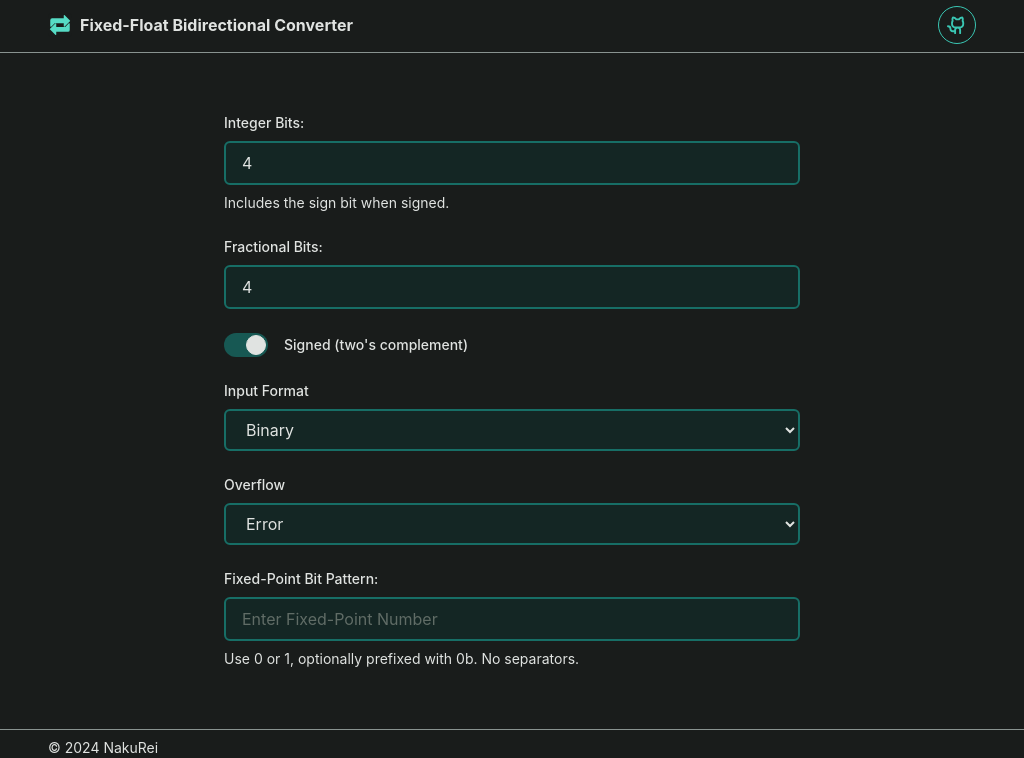
Test: Decimal input in the converter › revalidates a negative decimal when the sign mode changes
This screenshot has width=1024, height=758.
Select "Decimal" in the dropdown labelled "Input Format" at (512,430), box [224,409,800,451]
(page scrolled)
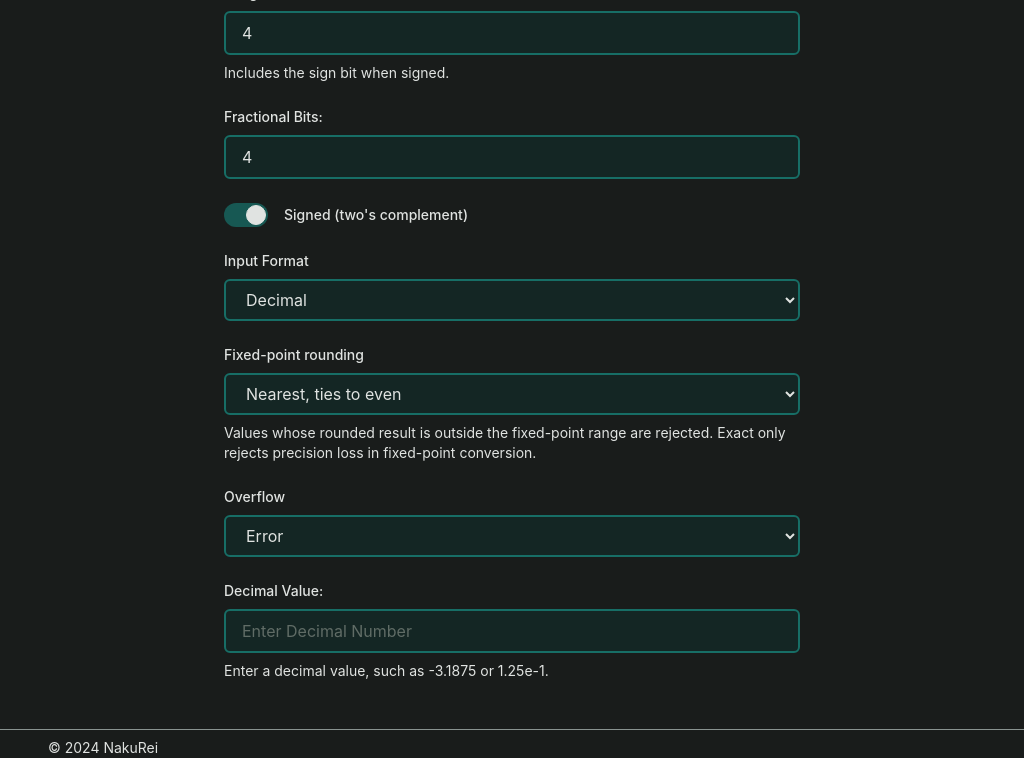
Type "-3.1875" into the field labelled "Decimal Value:" at (512,631), box [224,609,800,653]
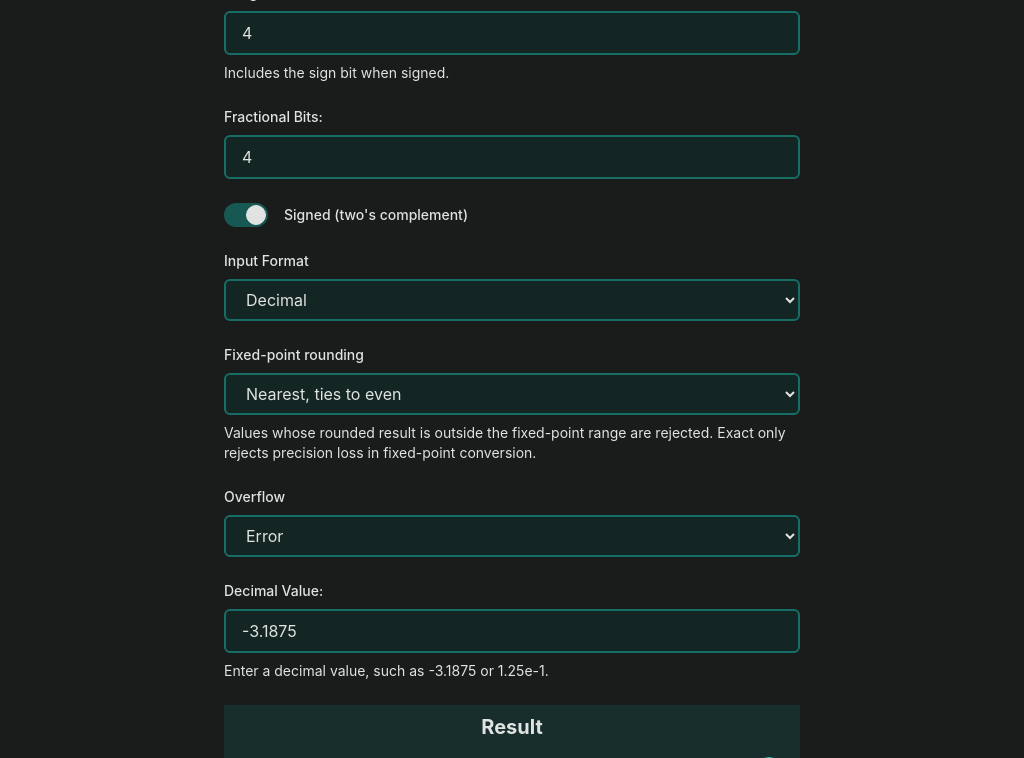
Click the checkbox at (346,215), box [224,203,468,227]
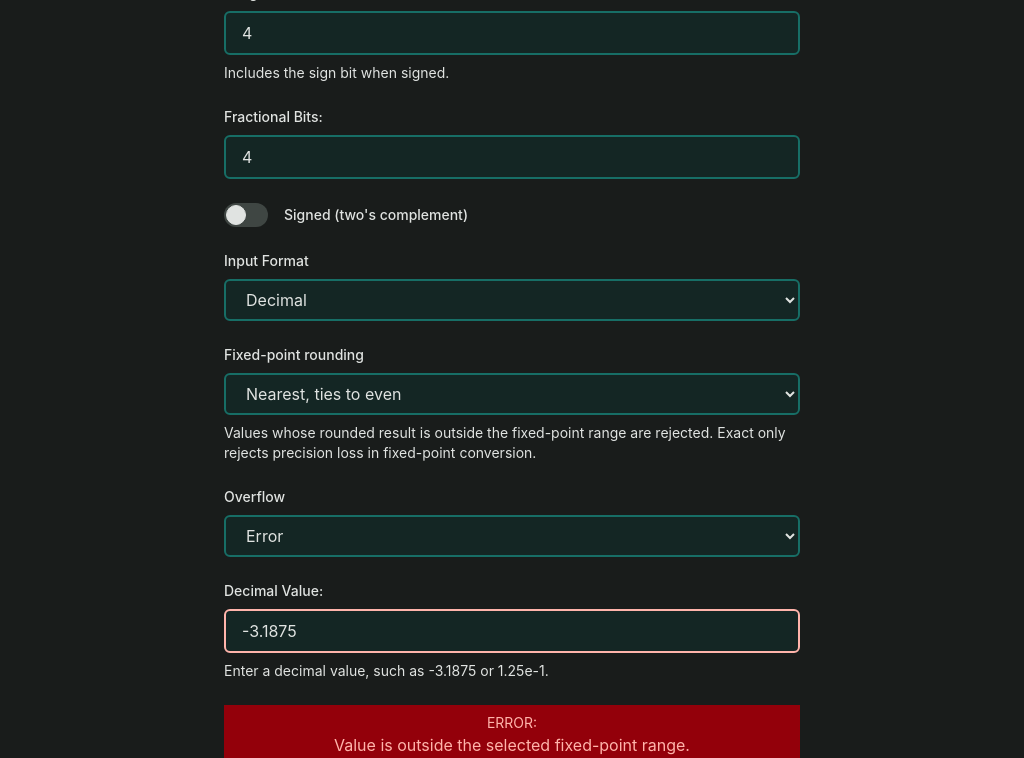
Click the checkbox at (346,215), box [224,203,468,227]
(page scrolled)
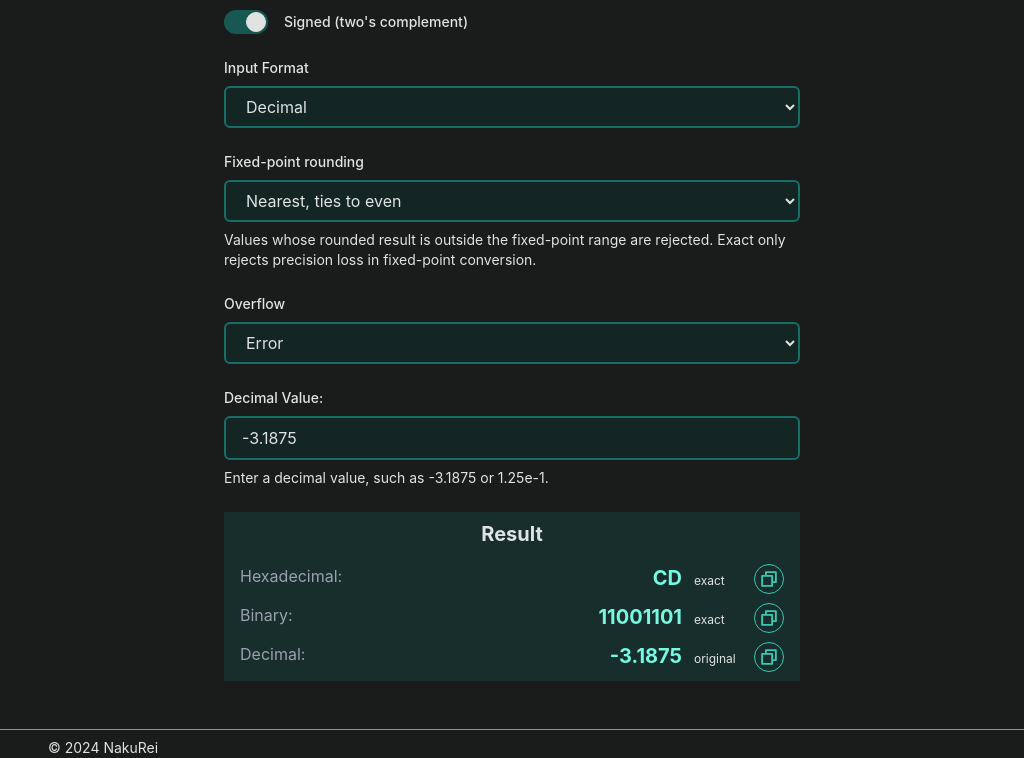
Now the text "CD" is shown, box [653,564,682,592]
Now the text "ERROR:" is gone
